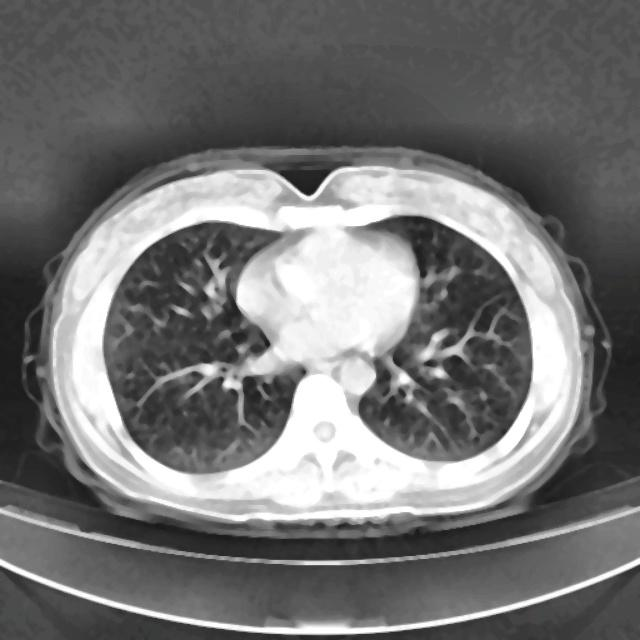covid: (21, 145, 612, 539)
